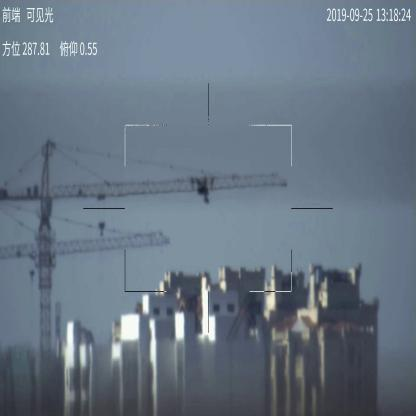uav: (191, 175, 215, 206)
